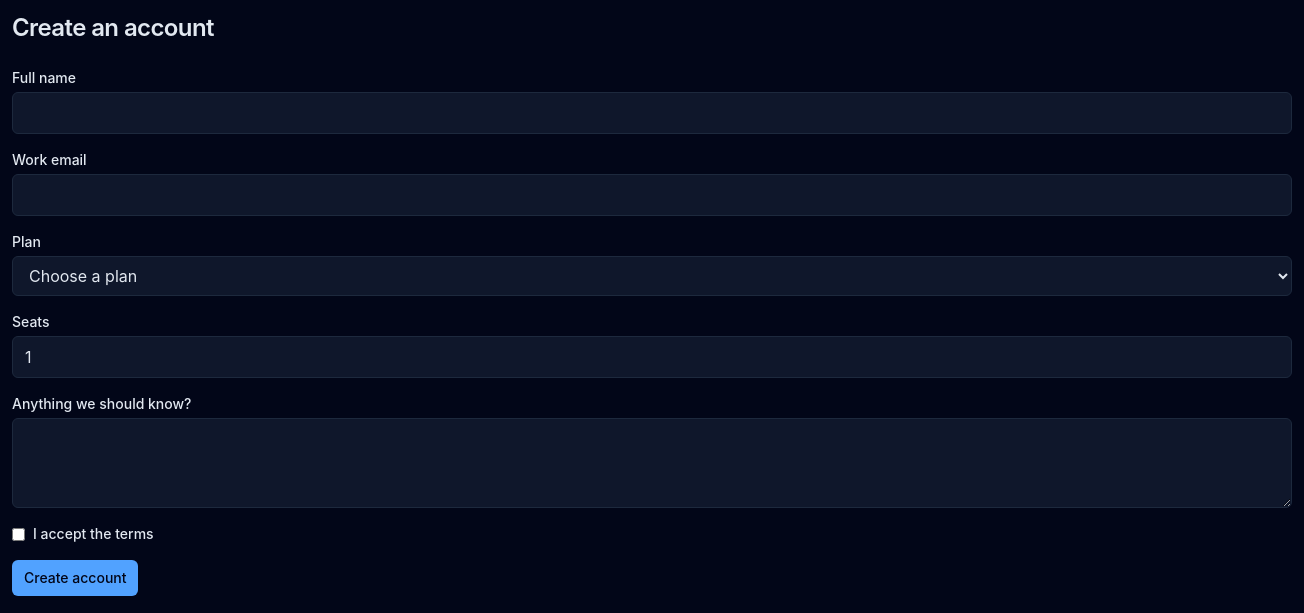
Scenario: SignupPage › replaces the form with the confirmation
Type "Dana Whitfield" into the field with test id "full-name-input". click: [652, 113]
box: left=12, top=92, right=1292, bottom=134
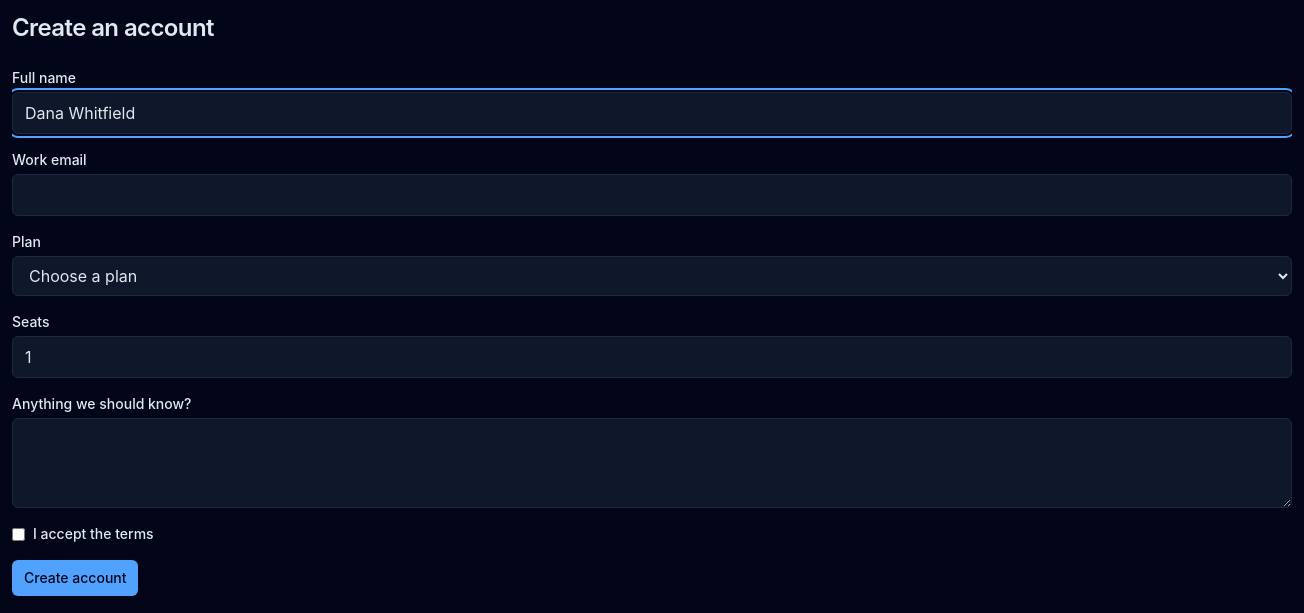
Type "dana.whitfield@example.com" into the field with test id "email-input". click: [652, 195]
box: left=12, top=174, right=1292, bottom=216
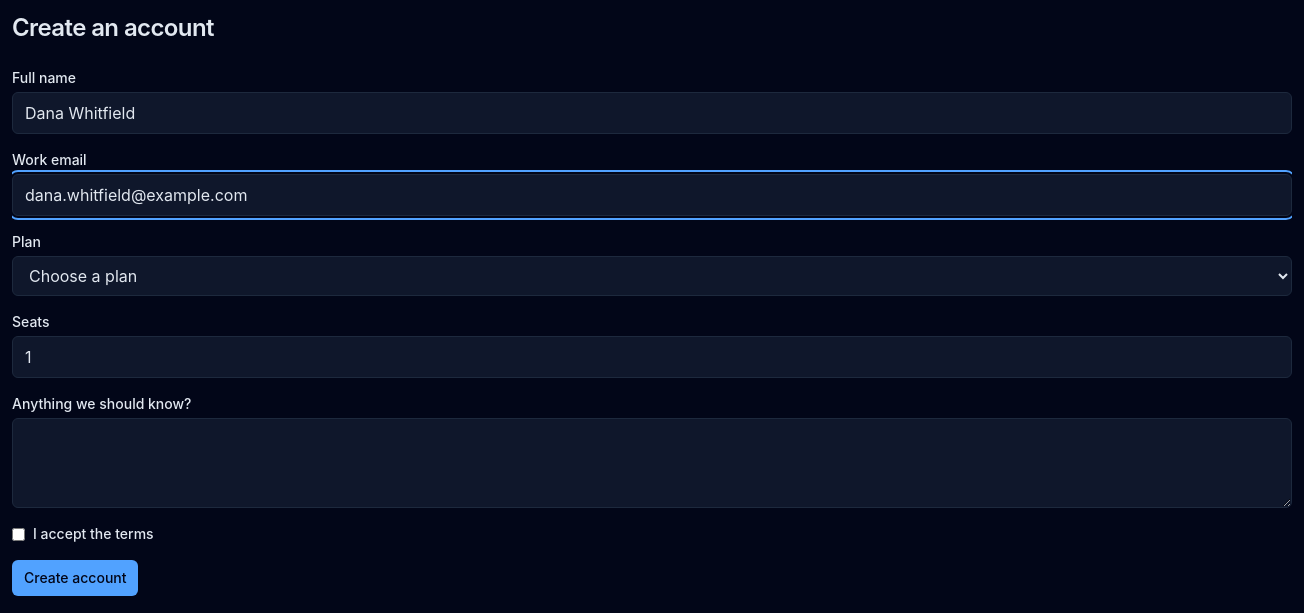
Select "Growth" in the dropdown with test id "plan-select". click: [652, 276]
box: left=12, top=256, right=1292, bottom=296
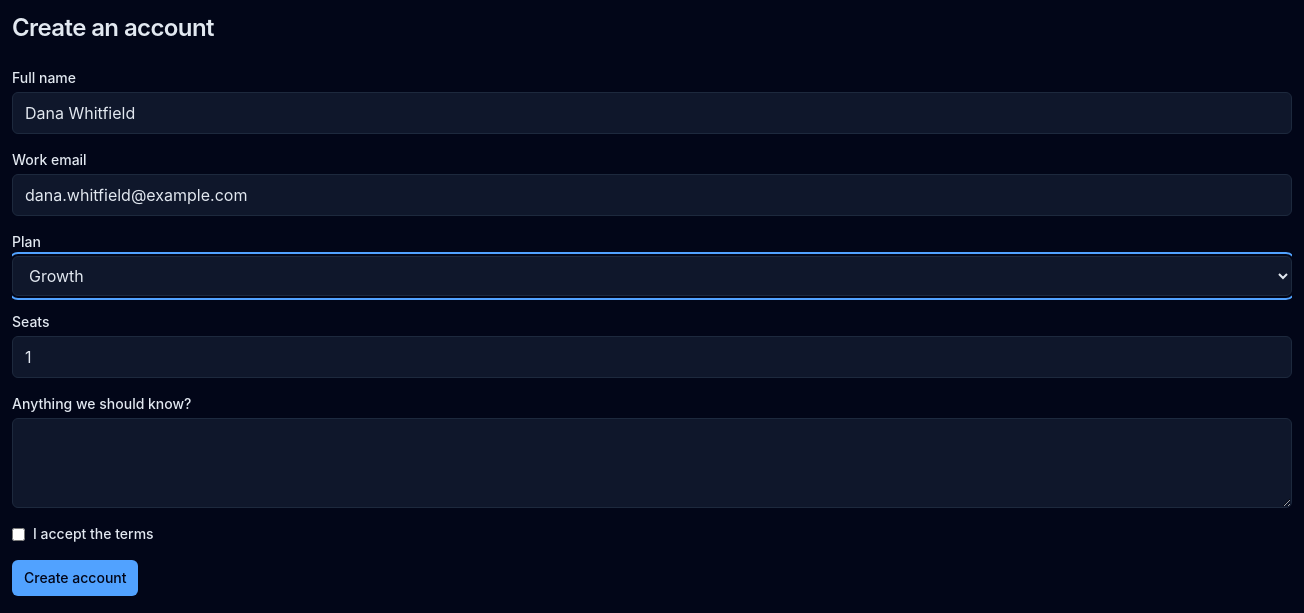
Replace the text in the number field with test id "seats-input" with "12". click: [652, 357]
box: left=12, top=336, right=1292, bottom=378
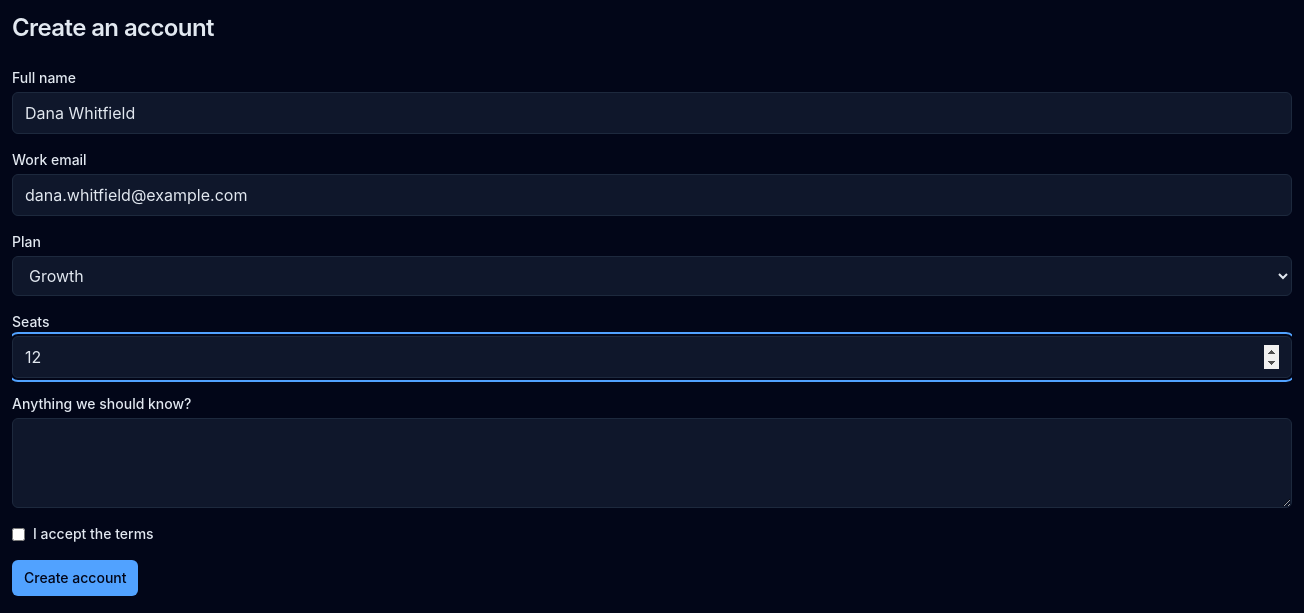
Click the checkbox with test id "terms-checkbox". click: [18, 534]
box: left=12, top=528, right=25, bottom=540
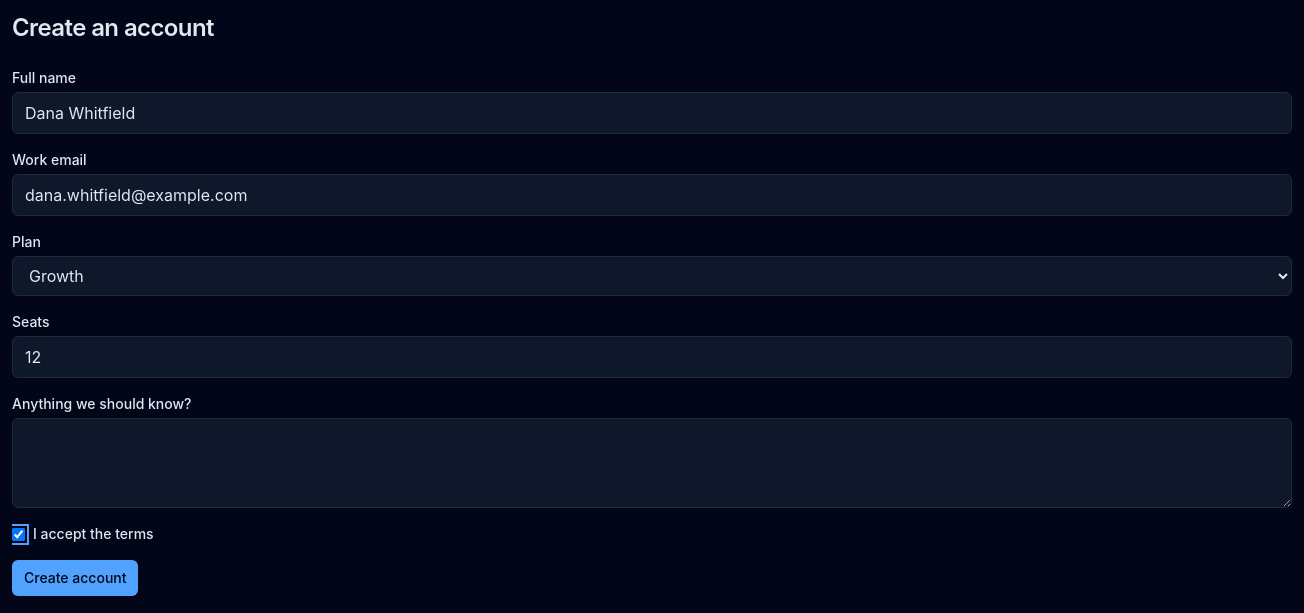
Click the button with test id "submit-button". click: [75, 578]
box: left=12, top=560, right=138, bottom=596
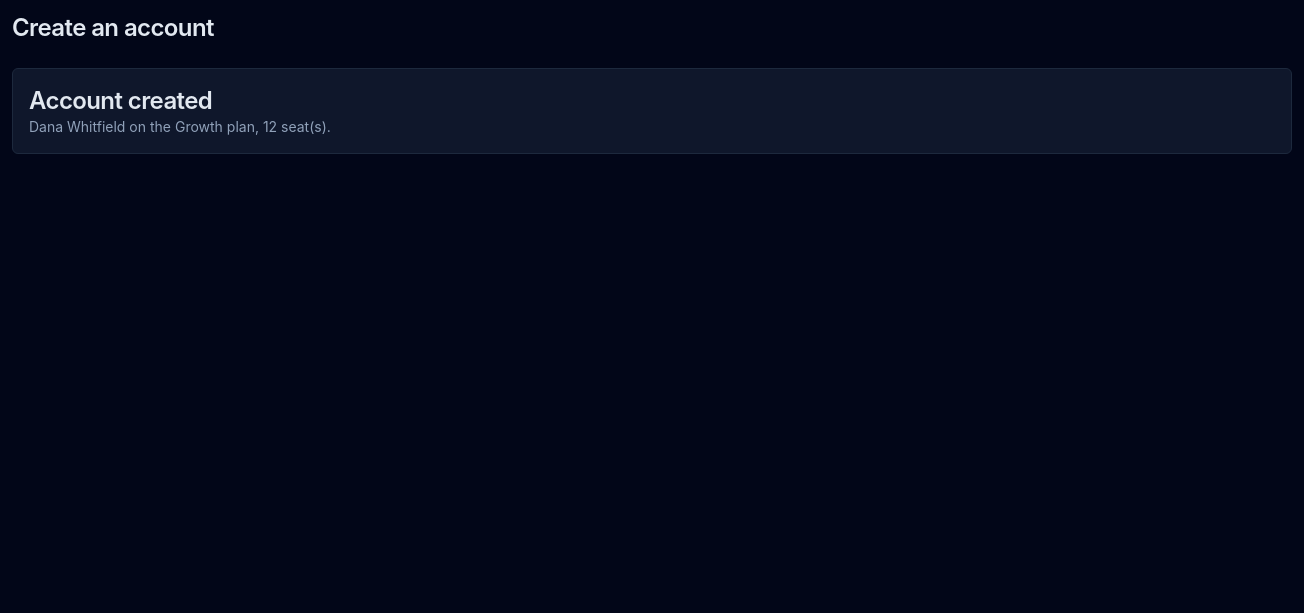
Expected: the form with test id "signup-form" is gone
Expected: the message "Account created Dana Whitfield on the Growth plan, 12 seat(s)." is shown, left=12, top=68, right=1292, bottom=154
